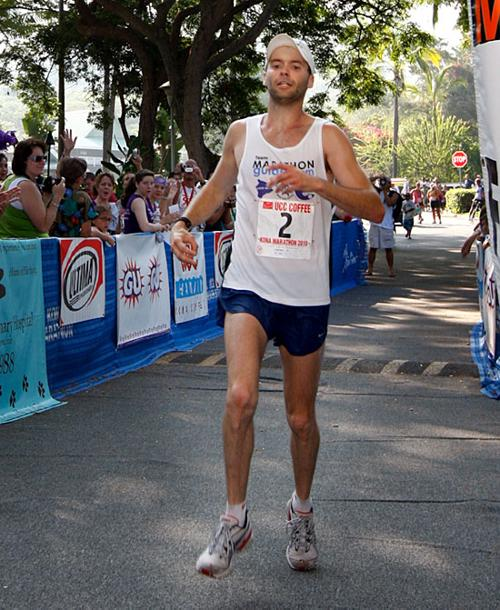person: (172, 32, 389, 584)
